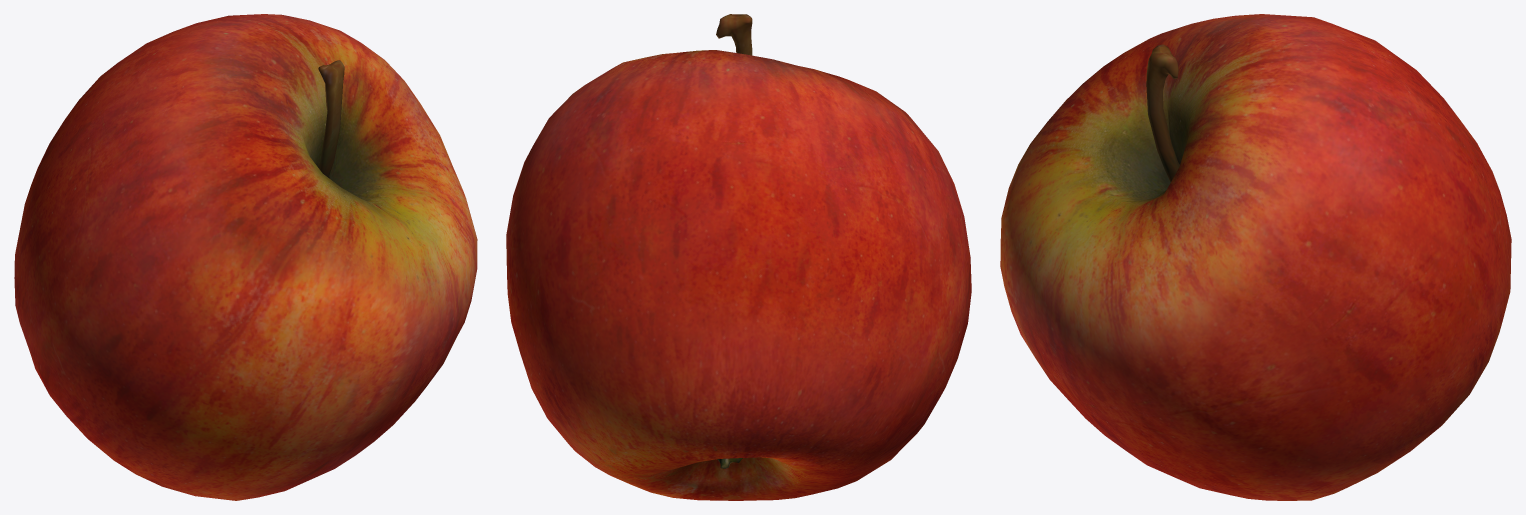
Rendered from manzana.gltf.
3 renders of one model, left to right at view 1: azimuth 30°, elevation 25°; view 2: azimuth 150°, elevation 25°; view 3: azimuth 270°, elevation 25°, orthographic. The views are drawn at different scales.
Visible parts, largest first — view 1: APPLE; view 2: APPLE; view 3: APPLE.
Boxes of the visible parts, box(x1,y1,x2,y2) form: APPLE: box(14, 14, 477, 500); APPLE: box(506, 14, 971, 500); APPLE: box(1000, 14, 1511, 500).
Bounding box in the file's own units: 3.25 × 3.42 × 3.48.
Materials: 1 (1 with a texture image).
